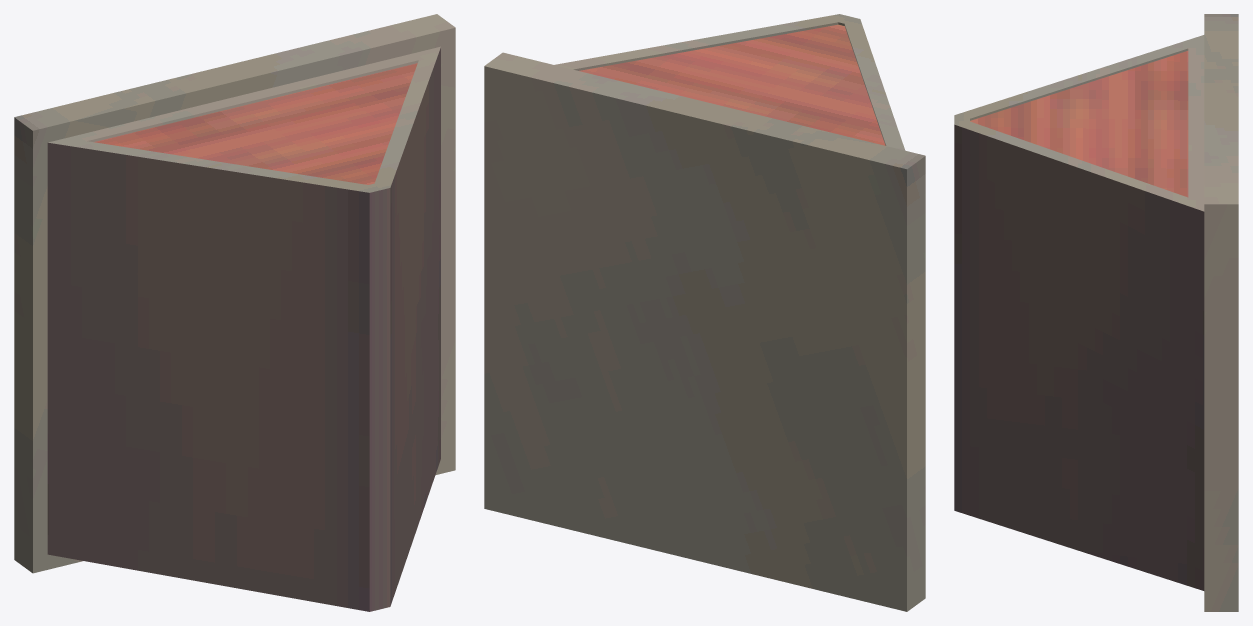
Rendered from 197_katto_pyramidi2.gltf.
3 renders of one model, left to right at view 1: azimuth 30°, elevation 25°; view 2: azimuth 150°, elevation 25°; view 3: azimuth 270°, elevation 25°, orthographic. The views are drawn at different scales.
Parts seen in each view (by area): view 1: katto_pyramidi2; view 2: katto_pyramidi2; view 3: katto_pyramidi2.
Boxes of the visible parts, <box> form: katto_pyramidi2: <box>14,14,455,611</box>; katto_pyramidi2: <box>484,14,925,611</box>; katto_pyramidi2: <box>954,14,1238,611</box>.
Size of the model in its own units: 8.84 by 8.84 by 5.59.
Materials: 1 (1 with a texture image).
